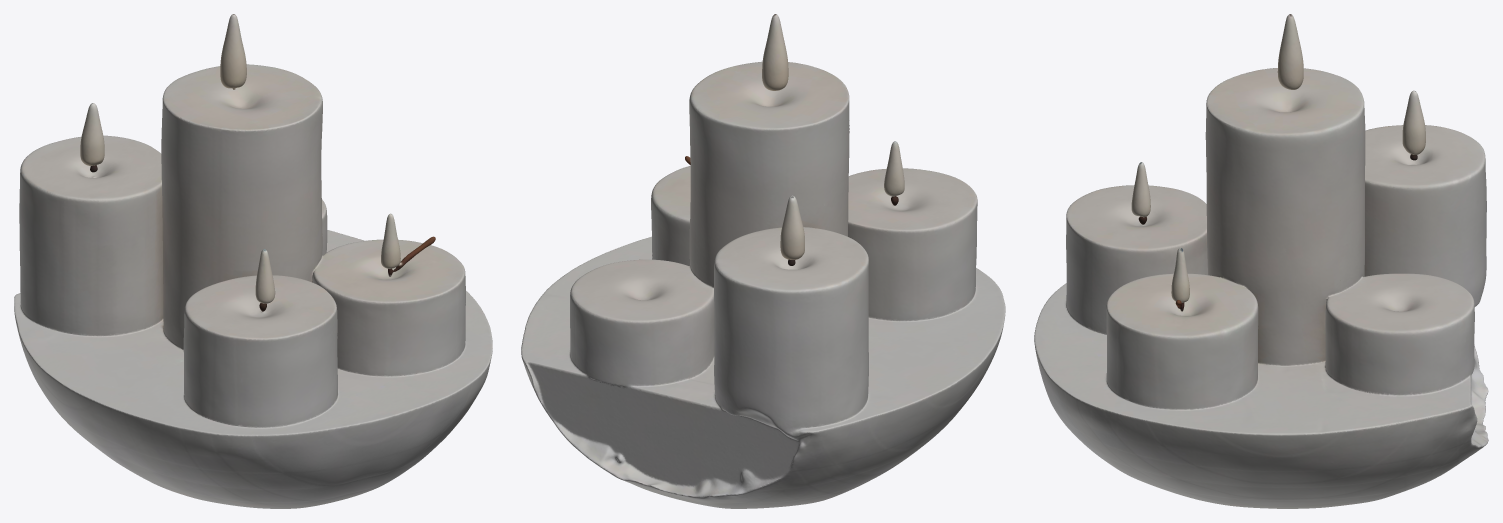
The model's file is detailed_realistic_model_floatingcandles_20.glb.
3 views of the same model, side by side, from view 1: azimuth 30°, elevation 25°; view 2: azimuth 150°, elevation 25°; view 3: azimuth 270°, elevation 25° (orthographic).
Parts seen in each view (by area): view 1: tripo_node_ff8b8eaa-ab27-4464-a8c9-ee0aec00dca3; view 2: tripo_node_ff8b8eaa-ab27-4464-a8c9-ee0aec00dca3; view 3: tripo_node_ff8b8eaa-ab27-4464-a8c9-ee0aec00dca3.
Part boxes in pixels (bbox=[...]): tripo_node_ff8b8eaa-ab27-4464-a8c9-ee0aec00dca3: bbox=[14, 14, 492, 508]; tripo_node_ff8b8eaa-ab27-4464-a8c9-ee0aec00dca3: bbox=[521, 14, 1005, 508]; tripo_node_ff8b8eaa-ab27-4464-a8c9-ee0aec00dca3: bbox=[1034, 14, 1488, 508].
Bounding box in the file's own units: 0.908 × 1 × 0.8942.
Materials: 1 (1 with a texture image).
